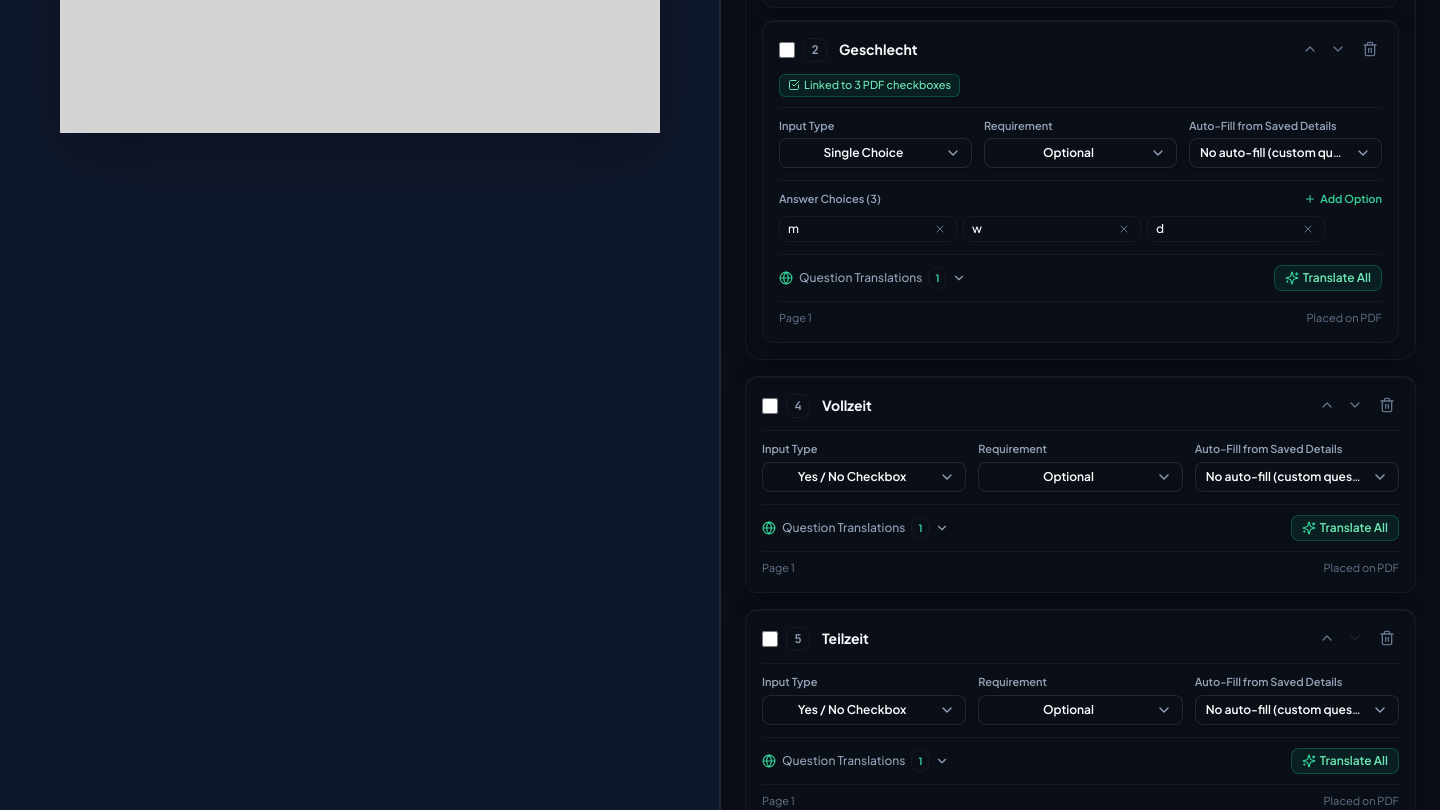
Test: FormSchemaReviewStudio Table Groups, Choice Editing & Selection Actions › combines multiple selected boolean fields into one choice question
This screenshot has width=1440, height=810.
Later steps or results of the test are not shown.
(page scrolled)
Click the checkbox named "Select Vollzeit".
click(770, 406)  # box [762, 398, 778, 414]
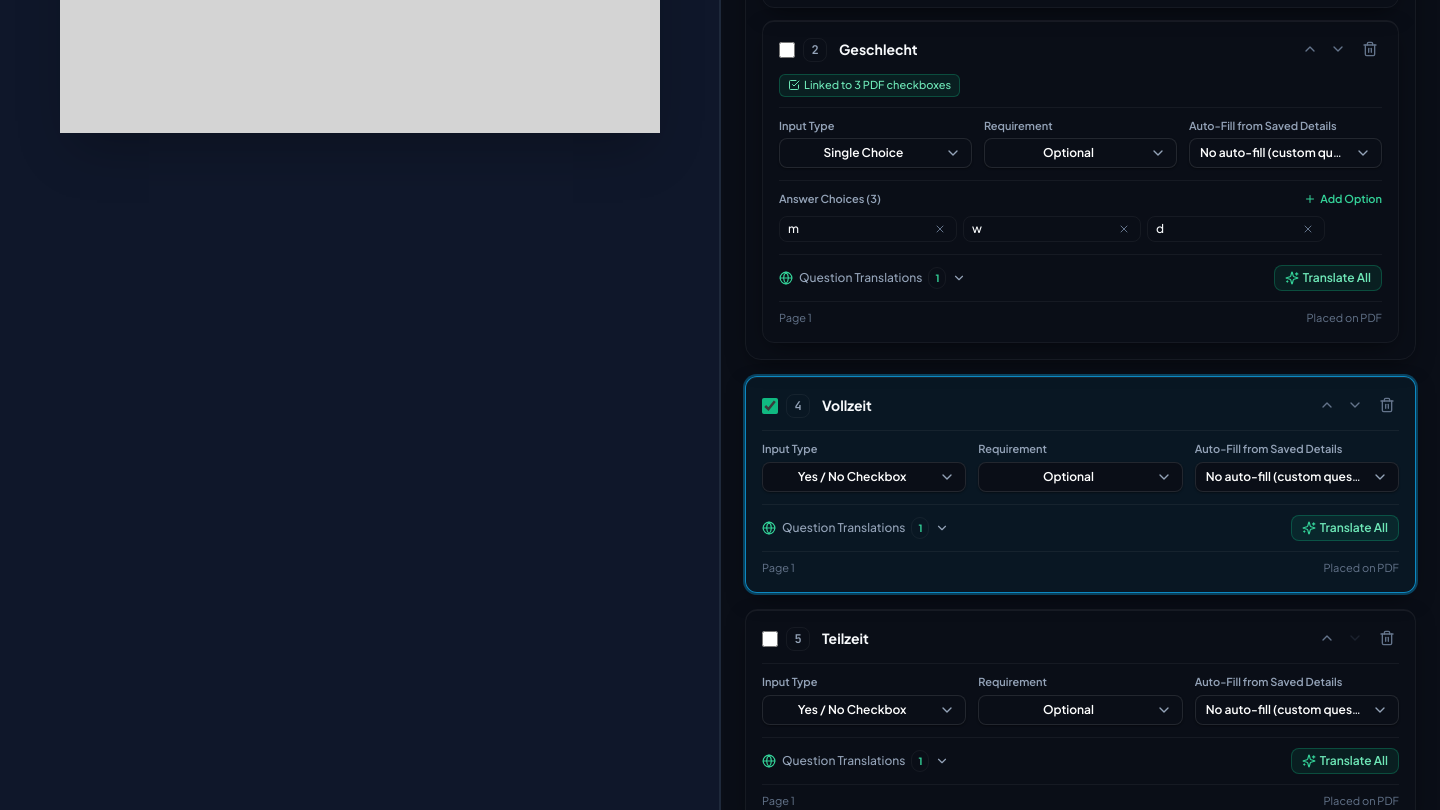
Click the checkbox named "Select Teilzeit".
click(770, 638)  # box [762, 630, 778, 646]
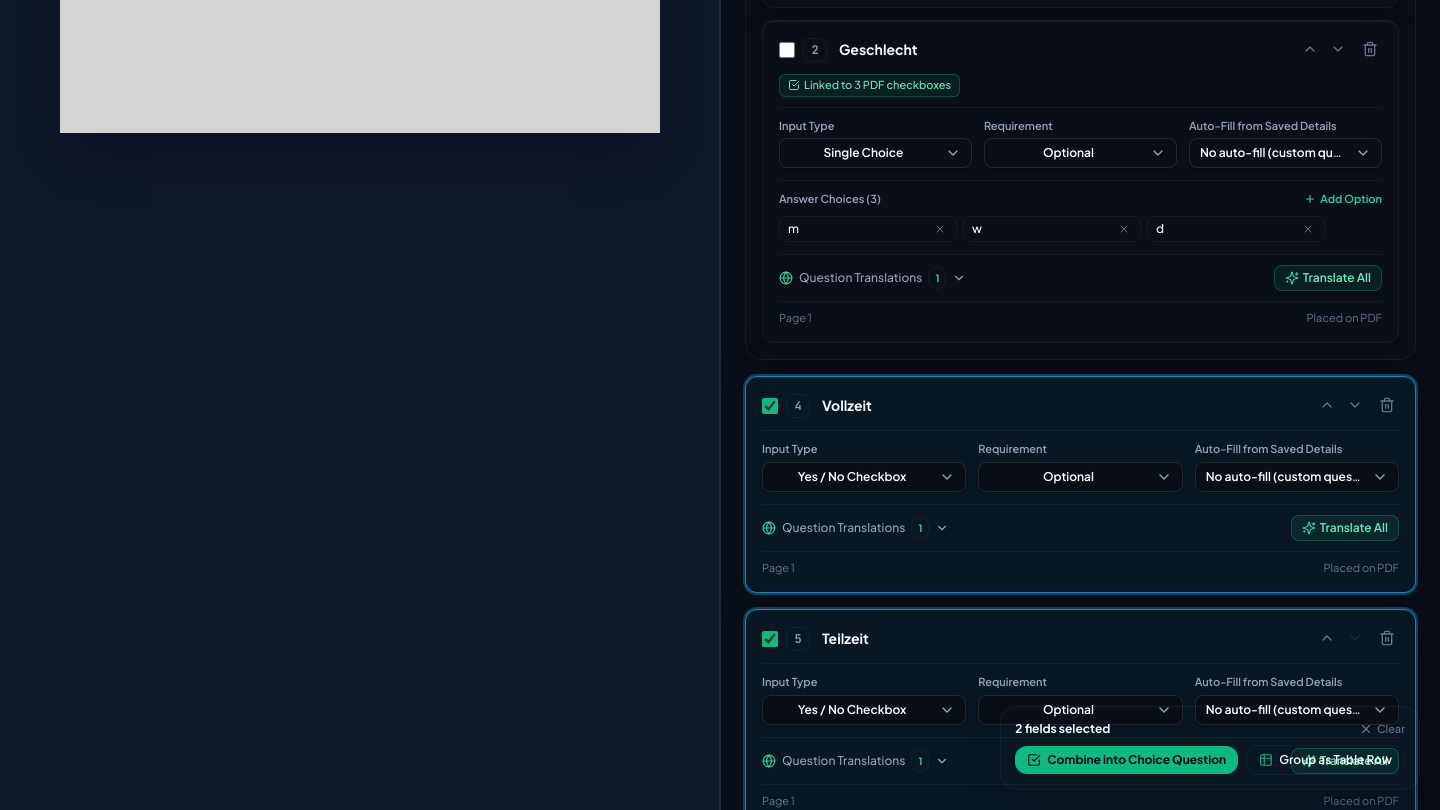
Expected: the element with test id "studio-selection-bar" shows "2 fields selected", [1000, 706, 1420, 790]
